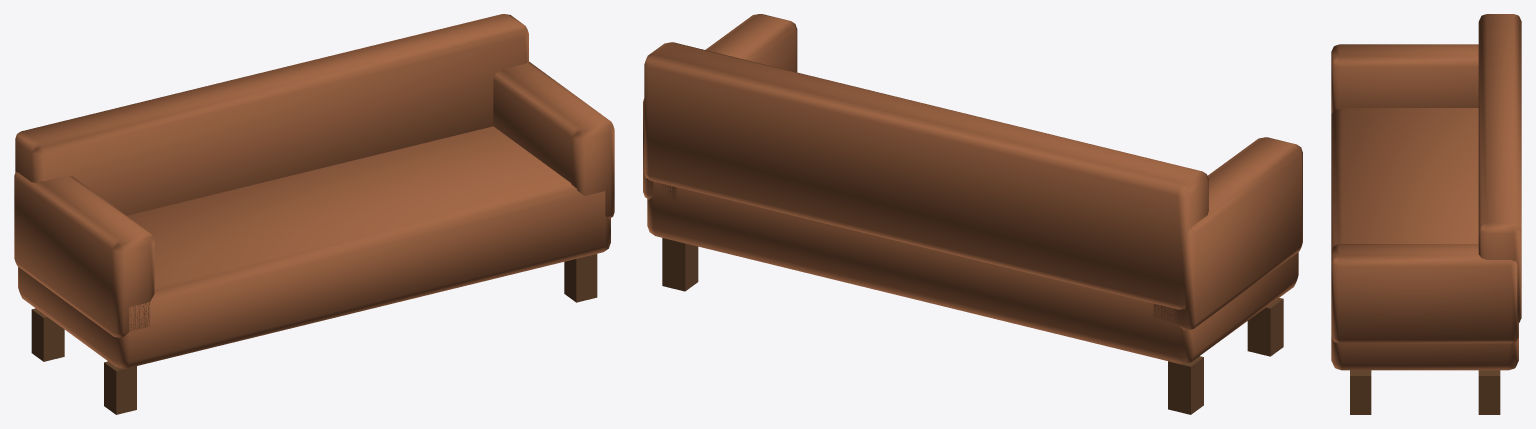
File: v_furn_sofa.glb
3 views of the same model, side by side, from view 1: azimuth 30°, elevation 25°; view 2: azimuth 150°, elevation 25°; view 3: azimuth 270°, elevation 25° (orthographic). The views are drawn at different scales.
Parts seen in each view (by area): view 1: FurnSofa; view 2: FurnSofa; view 3: FurnSofa.
Boxes of the visible parts, x1,y1,x2,y2 form: FurnSofa: (14,14,614,414); FurnSofa: (643,14,1302,414); FurnSofa: (1331,14,1521,414).
Size of the model in its own units: 1.92 by 0.79 by 0.71.
